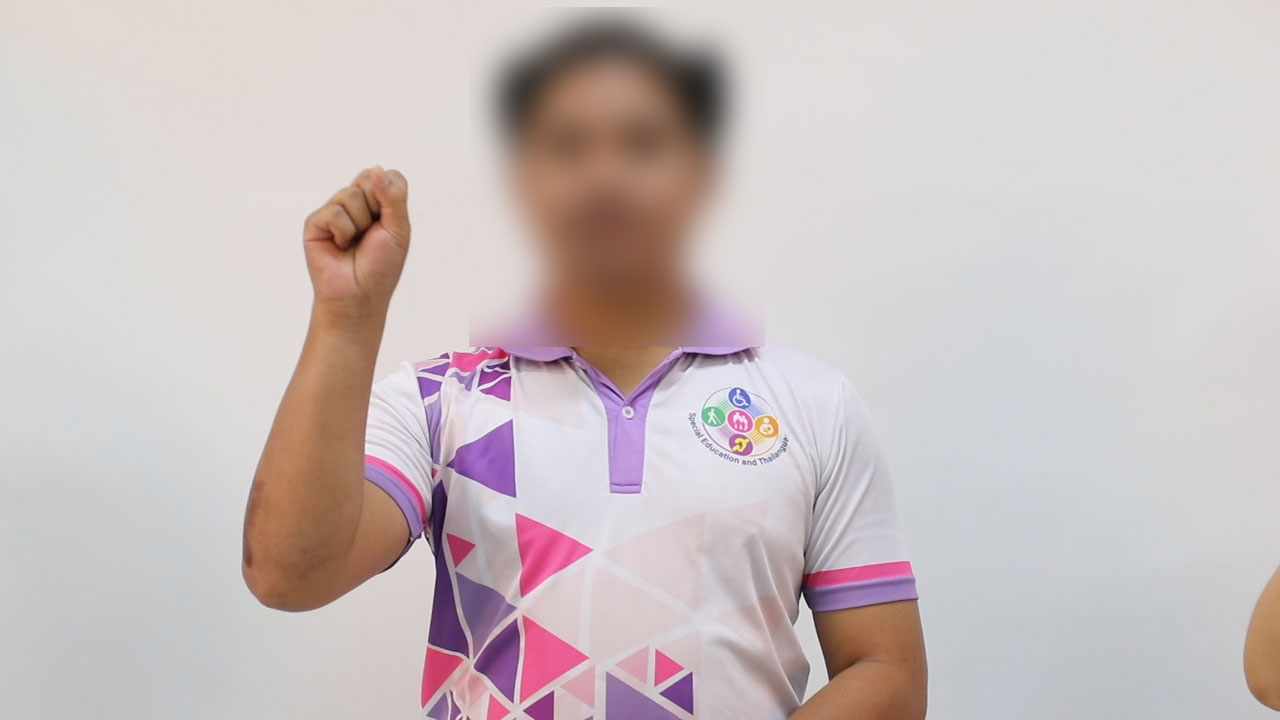sor: (282, 151, 425, 326)
